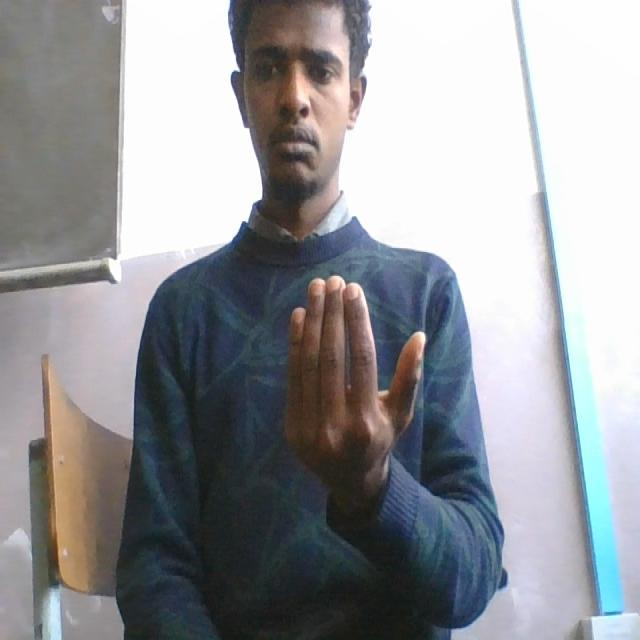na: (277, 269, 429, 520)
